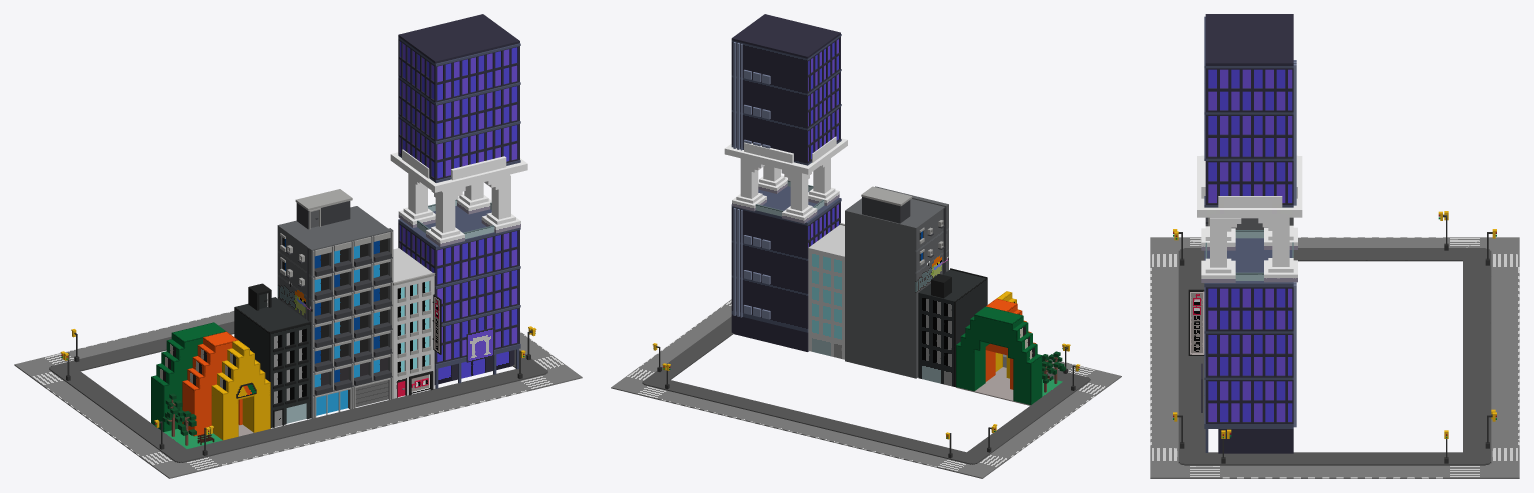
File: Block1.glb
3 renders of one model, left to right at view 1: azimuth 30°, elevation 25°; view 2: azimuth 150°, elevation 25°; view 3: azimuth 270°, elevation 25°, orthographic. The views are drawn at different scales.
Parts seen in each view (by area): view 1: Block1; view 2: Block1; view 3: Block1.
Boxes of the visible parts, left/top/right/bottom form: Block1: left=14, top=14, right=582, bottom=478; Block1: left=611, top=14, right=1121, bottom=478; Block1: left=1150, top=14, right=1519, bottom=478.
Bounding box in the file's own units: 4 × 3.05 × 2.6.
Materials: 1 (1 with a texture image).
